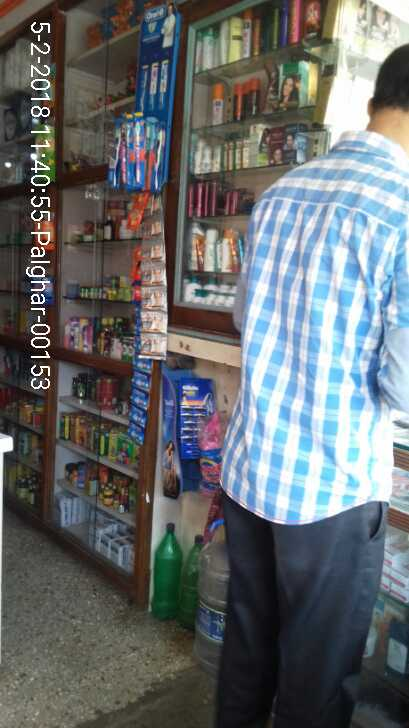reject: (137, 120, 214, 238)
